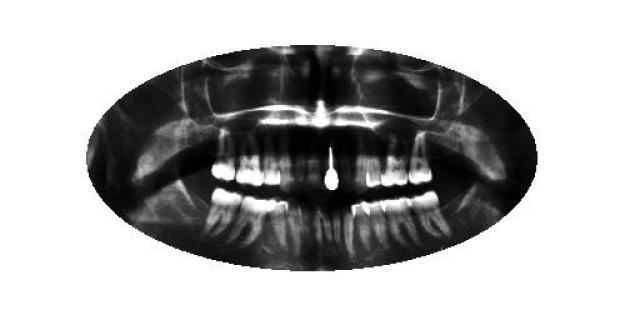Implant: (324, 145, 338, 191)
